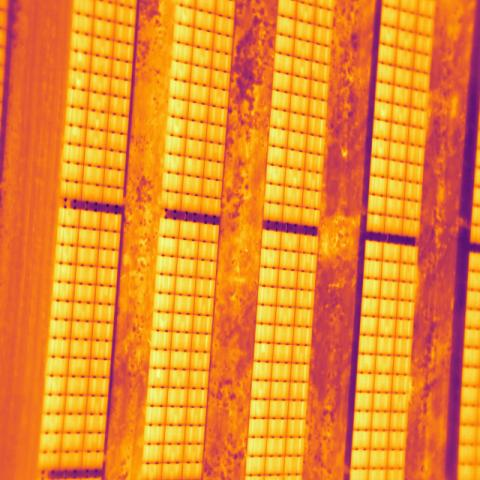fault: (148, 367, 169, 389)
